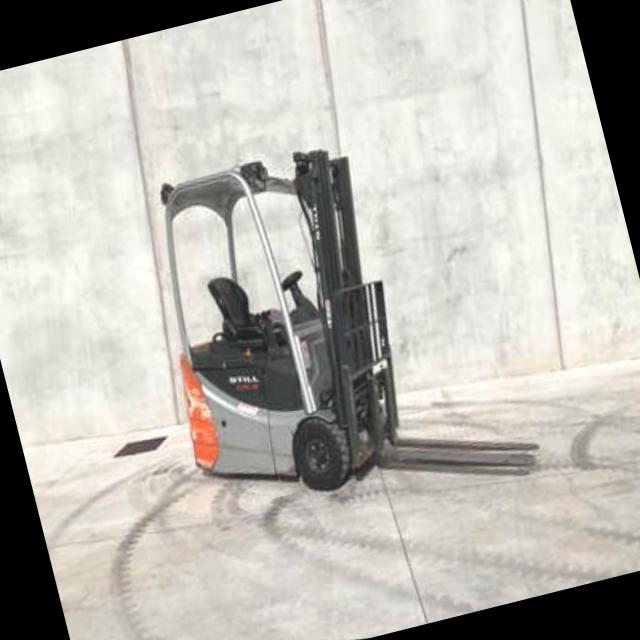forklift: (94, 80, 475, 549)
